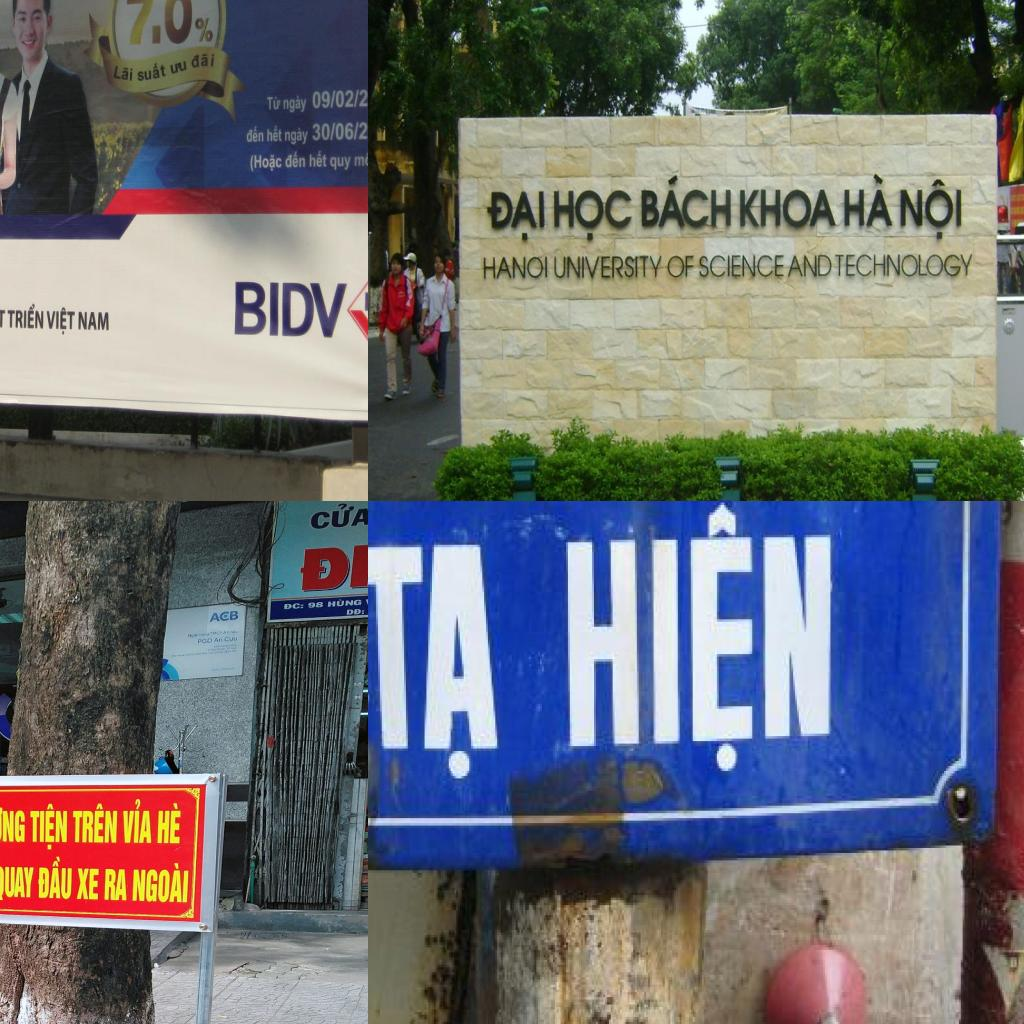text: (368, 532, 525, 795), (640, 174, 734, 232), (291, 524, 368, 593), (552, 186, 636, 244), (898, 178, 966, 242), (738, 187, 838, 229), (484, 188, 548, 245), (834, 253, 974, 278), (553, 254, 664, 280), (842, 173, 894, 228), (128, 864, 190, 906), (698, 253, 787, 280), (70, 802, 118, 847), (28, 803, 68, 851), (482, 253, 550, 281), (308, 501, 368, 532), (118, 798, 155, 846), (34, 856, 74, 900), (123, 0, 158, 49), (162, 0, 194, 46), (0, 865, 35, 903), (786, 253, 833, 279), (155, 803, 182, 845), (6, 302, 46, 330), (72, 866, 102, 902), (0, 804, 26, 844), (44, 306, 77, 336), (103, 866, 130, 901), (76, 308, 110, 332), (137, 60, 168, 84), (666, 255, 695, 280), (194, 14, 216, 46), (248, 153, 282, 173), (110, 60, 135, 85), (191, 50, 216, 70), (283, 94, 309, 113), (285, 127, 309, 146), (327, 597, 364, 609), (330, 152, 352, 172), (208, 610, 238, 624), (335, 87, 354, 109), (336, 120, 355, 142), (311, 123, 331, 143), (308, 149, 327, 169), (285, 150, 306, 168), (312, 90, 330, 110), (244, 126, 264, 144), (169, 58, 188, 76), (266, 125, 283, 143), (266, 94, 282, 112), (150, 23, 162, 45), (356, 120, 368, 142), (353, 151, 368, 167), (358, 87, 368, 109), (284, 602, 304, 610), (352, 89, 360, 108), (329, 123, 337, 142), (346, 608, 365, 616), (329, 89, 336, 109), (223, 635, 239, 643), (307, 601, 325, 608), (353, 122, 359, 141), (198, 631, 210, 638), (198, 638, 214, 643), (186, 632, 199, 638), (210, 630, 222, 636), (227, 629, 239, 634), (214, 638, 223, 642), (223, 630, 227, 634)
